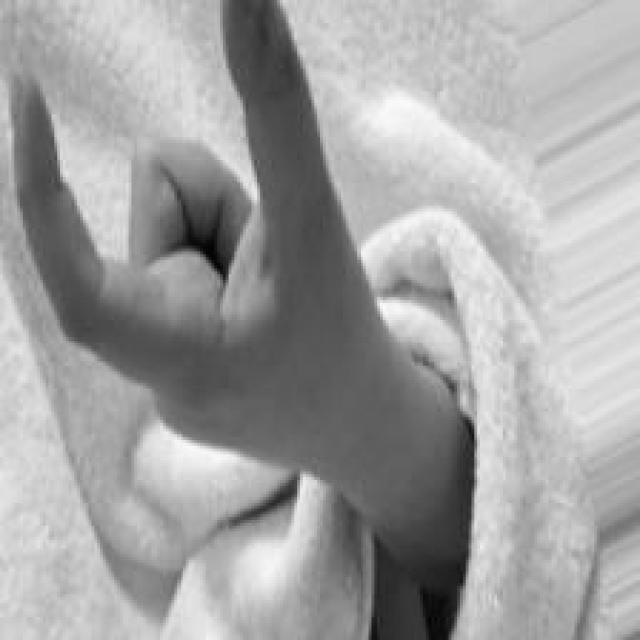U: (10, 0, 392, 474)
